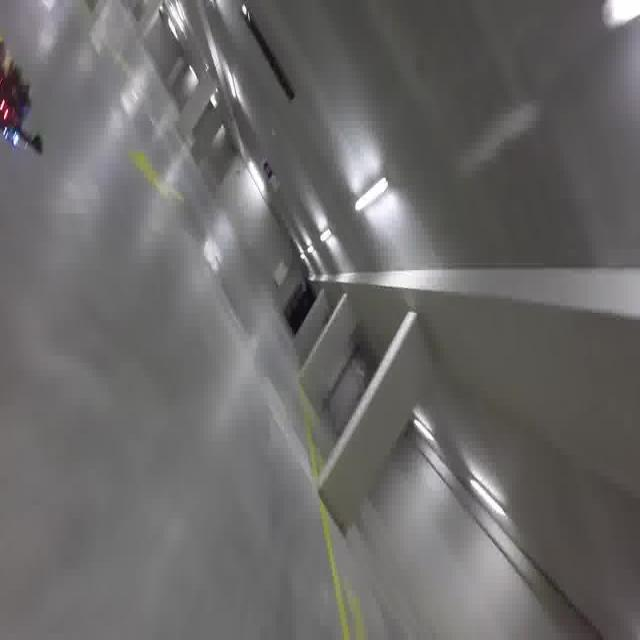drones: (0, 27, 49, 166)
